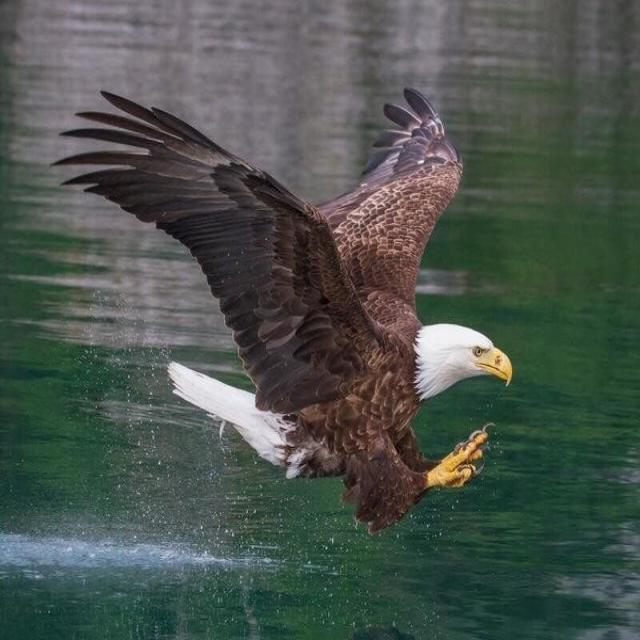Eagle: (77, 79, 518, 520)
